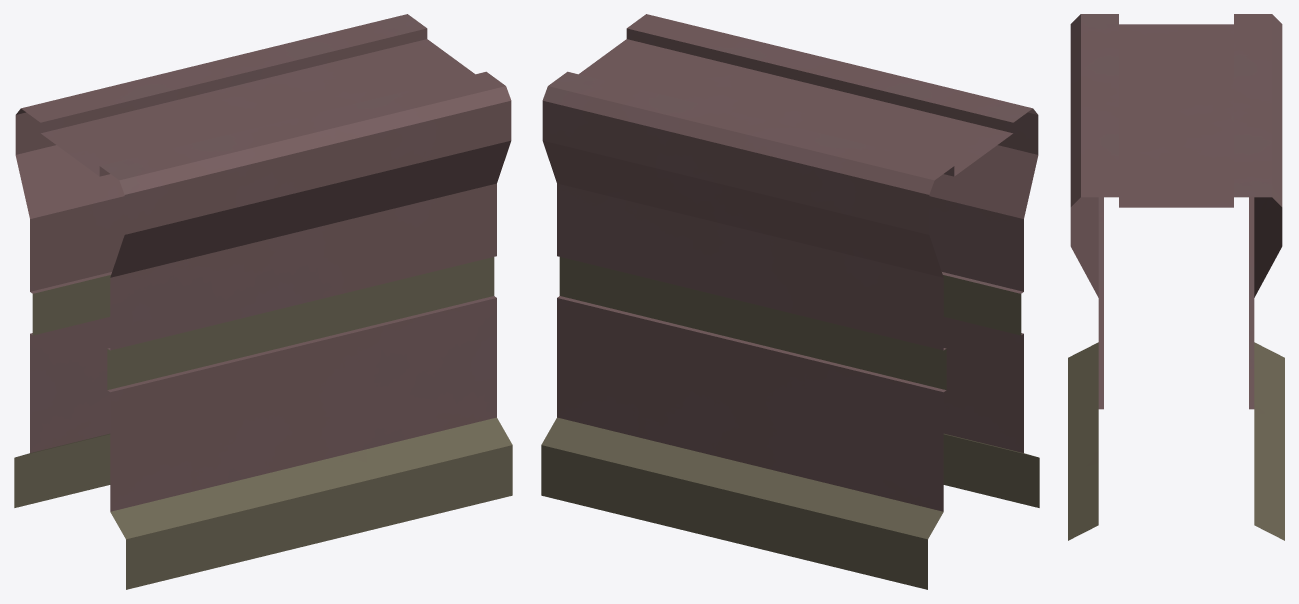
File: SM_Wall_B.fbx
3 renders of one model, left to right at view 1: azimuth 30°, elevation 25°; view 2: azimuth 150°, elevation 25°; view 3: azimuth 270°, elevation 25°, orthographic. The views are drawn at different scales.
Parts seen in each view (by area): view 1: wall_B; view 2: wall_B; view 3: wall_B.
Boxes of the visible parts, box(x1,y1,x2,y2) form: wall_B: box(14, 14, 512, 589); wall_B: box(541, 14, 1039, 589); wall_B: box(1068, 14, 1284, 540).
Bounding box in the file's own units: 2 × 2 × 1.
1 material, 1 textured.
